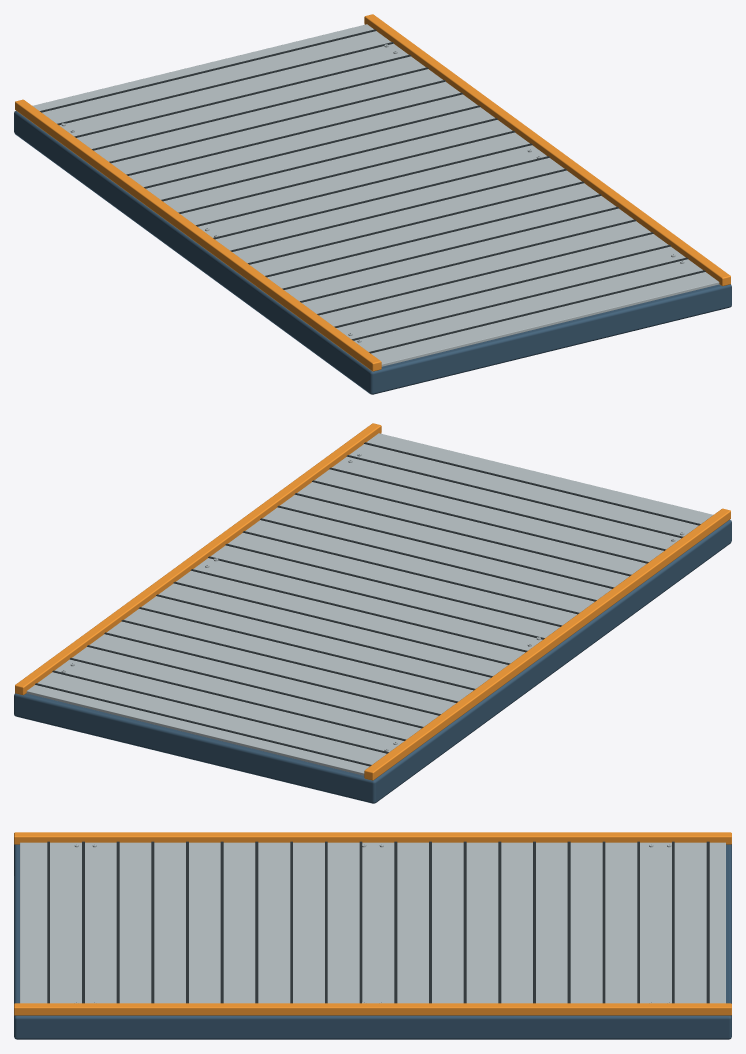
Rendered from container-inspection-and-customs-yard-container-inspec-b3acbfae__29278.glb.
The picture shows the model from 3 angles, top to bottom: view 1: azimuth 30°, elevation 25°; view 2: azimuth 150°, elevation 25°; view 3: azimuth 270°, elevation 25°; orthographic projection.
Parts seen in each view (by area): view 1: container-inspection-and-customs-yard-weighbridge; view 2: container-inspection-and-customs-yard-weighbridge; view 3: container-inspection-and-customs-yard-weighbridge.
Boxes of the visible parts, bbox=[...] form: container-inspection-and-customs-yard-weighbridge: bbox=[14, 14, 731, 394]; container-inspection-and-customs-yard-weighbridge: bbox=[14, 423, 731, 803]; container-inspection-and-customs-yard-weighbridge: bbox=[14, 832, 731, 1039].
Bounding box in the file's own units: 3.5 × 0.2998 × 6.
